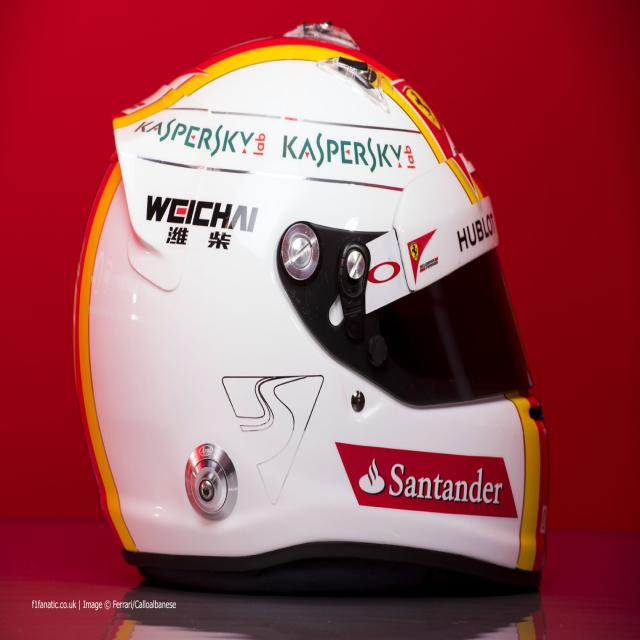Helm: (70, 16, 555, 595)
